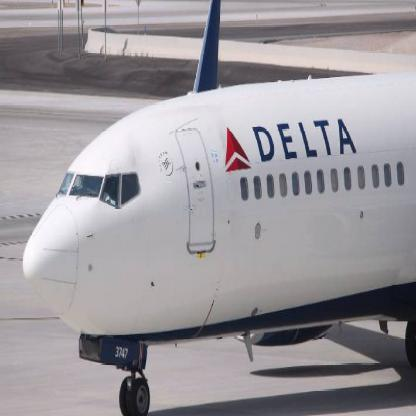CIV_Plane: (18, 0, 414, 412)
